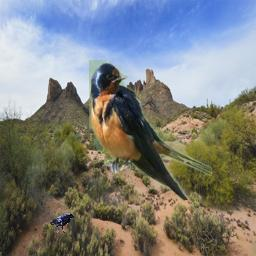Crow: (50, 213, 75, 233)
Swallow: (89, 60, 212, 200)
